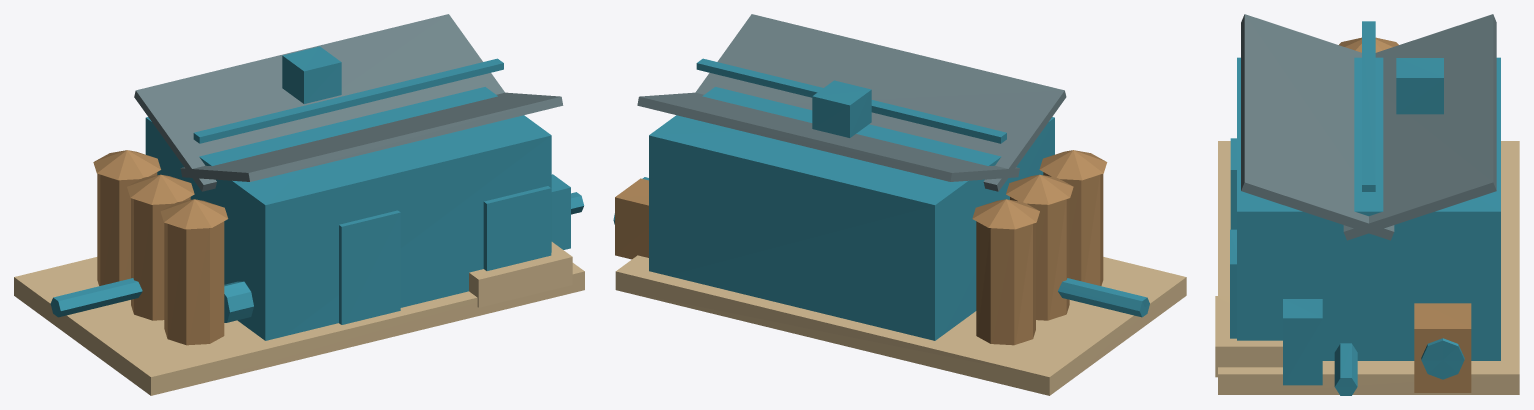
Rendered from industrial-dairy.source.glb.
The picture shows the model from 3 angles, left to right: view 1: azimuth 30°, elevation 25°; view 2: azimuth 150°, elevation 25°; view 3: azimuth 270°, elevation 25°; orthographic projection. The views are drawn at different scales.
Parts seen in each view (by area): view 1: industrial-dairy-modular-rectangular-processing-hall-mesh, industrial-dairy-shallow-galvanized-processing-roof-mesh (×2), industrial-dairy-long-stone-processing-foundation-mesh, industrial-dairy-external-stainless-processing-tank-mesh (×3), industrial-dairy-industrial-dairy-service-door-mesh, industrial-dairy-product-output-bay-mesh, industrial-dairy-processing-tank-cap-mesh (×3), industrial-dairy-processing-hall-ridge-mesh, industrial-dairy-organized-product-loading-dock-mesh, industrial-dairy-roof-vent-unit-mesh, industrial-dairy-milk-intake-manifold-mesh, industrial-dairy-power-control-cabinet-mesh (+1 smaller); view 2: industrial-dairy-modular-rectangular-processing-hall-mesh, industrial-dairy-shallow-galvanized-processing-roof-mesh (×2), industrial-dairy-long-stone-processing-foundation-mesh, industrial-dairy-external-stainless-processing-tank-mesh (×3), industrial-dairy-processing-tank-cap-mesh (×3), industrial-dairy-processing-hall-ridge-mesh, industrial-dairy-roof-vent-unit-mesh, industrial-dairy-external-cooling-unit-mesh, industrial-dairy-milk-intake-manifold-mesh; view 3: industrial-dairy-shallow-galvanized-processing-roof-mesh (×2), industrial-dairy-modular-rectangular-processing-hall-mesh, industrial-dairy-long-stone-processing-foundation-mesh, industrial-dairy-external-cooling-unit-mesh, industrial-dairy-power-control-cabinet-mesh, industrial-dairy-roof-vent-unit-mesh, industrial-dairy-organized-product-loading-dock-mesh, industrial-dairy-processing-hall-ridge-mesh, industrial-dairy-cooling-fan-grille-cue-mesh, industrial-dairy-byproduct-output-pipe-mesh, industrial-dairy-product-output-bay-mesh, industrial-dairy-industrial-dairy-service-door-mesh (+1 smaller).
Boxes of the visible parts, box(x1,y1,x2,y2) form: industrial-dairy-modular-rectangular-processing-hall-mesh: box(145, 87, 551, 340); industrial-dairy-shallow-galvanized-processing-roof-mesh (×2): box(134, 14, 563, 191); industrial-dairy-long-stone-processing-foundation-mesh: box(14, 257, 584, 395); industrial-dairy-external-stainless-processing-tank-mesh (×3): box(97, 172, 224, 345); industrial-dairy-industrial-dairy-service-door-mesh: box(339, 210, 400, 324); industrial-dairy-product-output-bay-mesh: box(483, 186, 551, 270); industrial-dairy-processing-tank-cap-mesh (×3): box(93, 150, 228, 229); industrial-dairy-processing-hall-ridge-mesh: box(193, 58, 503, 143); industrial-dairy-organized-product-loading-dock-mesh: box(469, 242, 572, 307); industrial-dairy-roof-vent-unit-mesh: box(282, 46, 341, 103); industrial-dairy-milk-intake-manifold-mesh: box(50, 278, 142, 317); industrial-dairy-power-control-cabinet-mesh: box(551, 174, 570, 249); industrial-dairy-modular-rectangular-processing-hall-mesh: box(649, 87, 1054, 340); industrial-dairy-shallow-galvanized-processing-roof-mesh (×2): box(637, 14, 1066, 191); industrial-dairy-long-stone-processing-foundation-mesh: box(615, 255, 1186, 395); industrial-dairy-external-stainless-processing-tank-mesh (×3): box(976, 172, 1103, 345); industrial-dairy-processing-tank-cap-mesh (×3): box(972, 150, 1107, 229); industrial-dairy-processing-hall-ridge-mesh: box(696, 58, 1006, 143); industrial-dairy-roof-vent-unit-mesh: box(812, 80, 871, 137); industrial-dairy-external-cooling-unit-mesh: box(615, 178, 648, 259); industrial-dairy-milk-intake-manifold-mesh: box(1058, 278, 1149, 317); industrial-dairy-shallow-galvanized-processing-roof-mesh (×2): box(1241, 14, 1496, 240); industrial-dairy-modular-rectangular-processing-hall-mesh: box(1237, 57, 1500, 360); industrial-dairy-long-stone-processing-foundation-mesh: box(1218, 141, 1519, 394); industrial-dairy-external-cooling-unit-mesh: box(1414, 303, 1471, 392); industrial-dairy-power-control-cabinet-mesh: box(1283, 299, 1322, 385); industrial-dairy-roof-vent-unit-mesh: box(1396, 58, 1443, 114); industrial-dairy-organized-product-loading-dock-mesh: box(1215, 296, 1282, 377); industrial-dairy-processing-hall-ridge-mesh: box(1362, 21, 1375, 191); industrial-dairy-cooling-fan-grille-cue-mesh: box(1421, 338, 1464, 379); industrial-dairy-byproduct-output-pipe-mesh: box(1334, 343, 1357, 395); industrial-dairy-product-output-bay-mesh: box(1230, 229, 1236, 338); industrial-dairy-industrial-dairy-service-door-mesh: box(1230, 138, 1236, 229).
Bounding box in the file's own units: 5.73 × 2.22 × 2.68.
